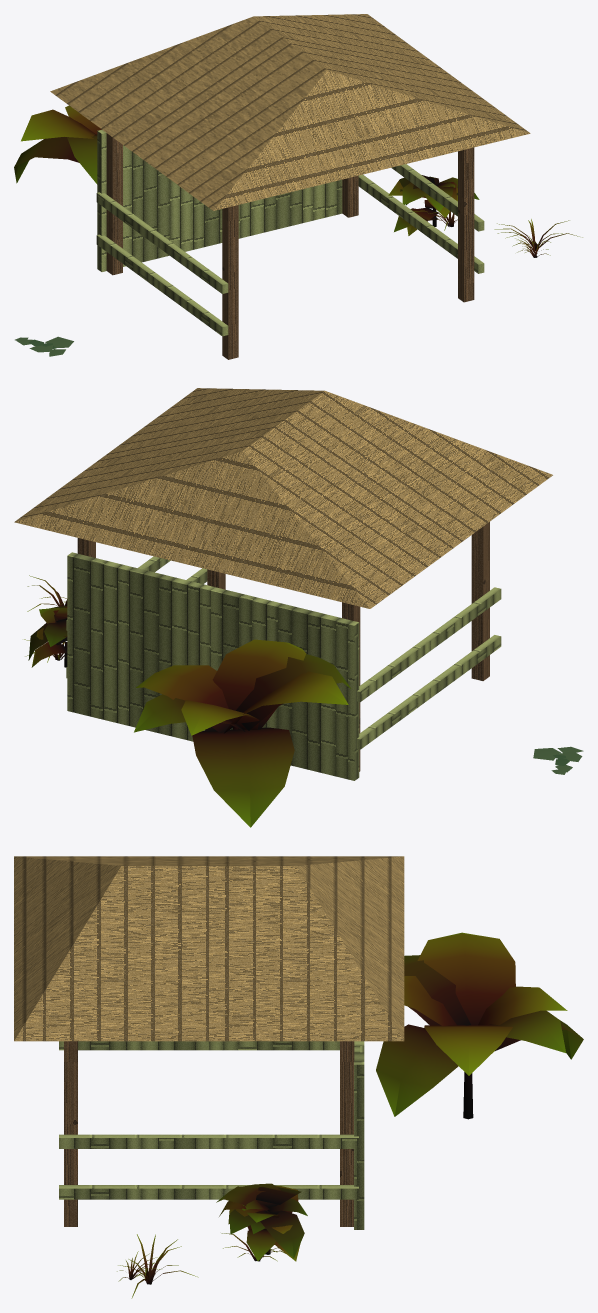
File: buffalo_shed_01.glb
The picture shows the model from 3 angles, top to bottom: view 1: azimuth 30°, elevation 25°; view 2: azimuth 150°, elevation 25°; view 3: azimuth 270°, elevation 25°; orthographic projection. The views are drawn at different scales.
Parts seen in each view (by area): view 1: buffalo_shed_01, buffalo_shed_01_veg_01_banana_a, buffalo_shed_01_veg_00_bush_a, buffalo_shed_01_veg_02_moss_a; view 2: buffalo_shed_01, buffalo_shed_01_veg_01_banana_a, buffalo_shed_01_veg_00_bush_a, buffalo_shed_01_veg_02_moss_a; view 3: buffalo_shed_01, buffalo_shed_01_veg_01_banana_a, buffalo_shed_01_veg_00_bush_a, buffalo_shed_01_veg_04_grass_tuft_c.
Part boxes in pixels (x1,y1,x2,y2): buffalo_shed_01: (50,14,530,359); buffalo_shed_01_veg_01_banana_a: (14,105,101,184); buffalo_shed_01_veg_00_bush_a: (388,175,479,235); buffalo_shed_01_veg_02_moss_a: (15,336,73,356); buffalo_shed_01: (14,388,552,780); buffalo_shed_01_veg_01_banana_a: (134,639,350,827); buffalo_shed_01_veg_00_bush_a: (28,606,67,667); buffalo_shed_01_veg_02_moss_a: (533,746,583,774); buffalo_shed_01: (14,856,404,1229); buffalo_shed_01_veg_01_banana_a: (376,932,583,1119); buffalo_shed_01_veg_00_bush_a: (216,1183,307,1261); buffalo_shed_01_veg_04_grass_tuft_c: (118,1234,198,1298).
Size of the model in its own units: 7.13 by 3.15 by 5.62.
Materials: 9 (9 with a texture image).
